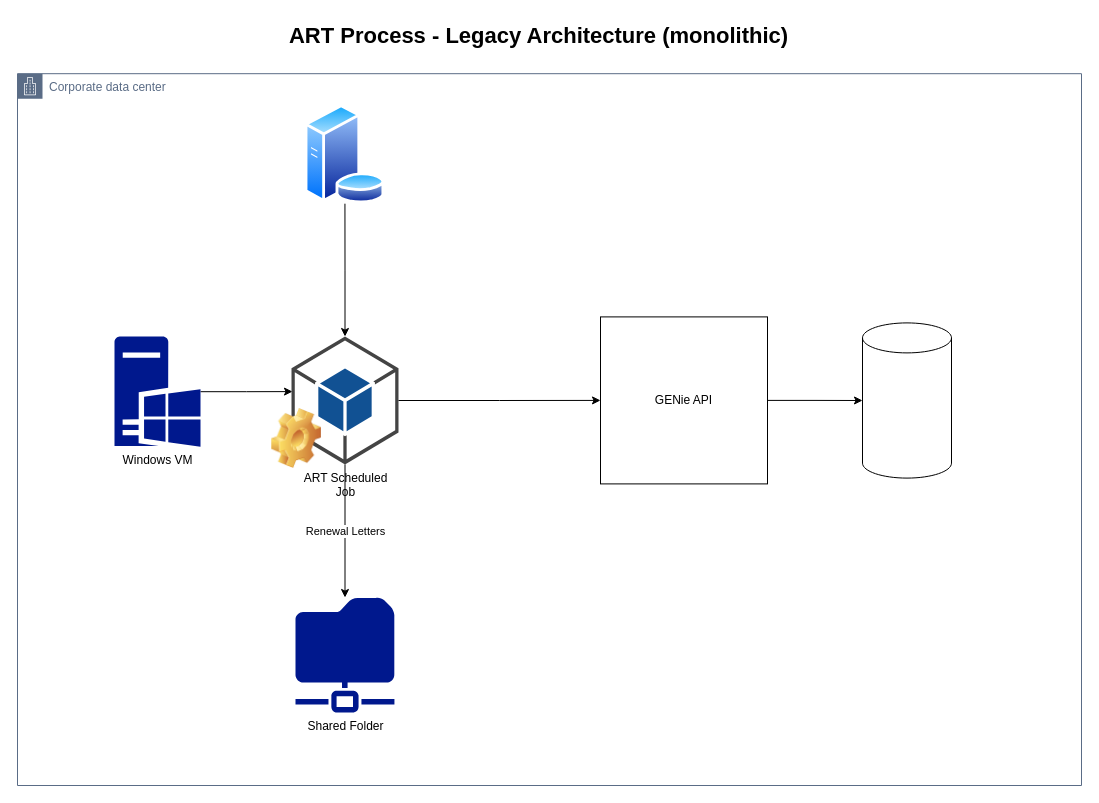
Image size: 1099x803. Some labels were removed from this diagram. The shapes that lost their labels are listed below. From the top down, each one's centre as x and y in pixels, then its label:
point (344, 153): SQL Database
point (907, 400): BPMi
